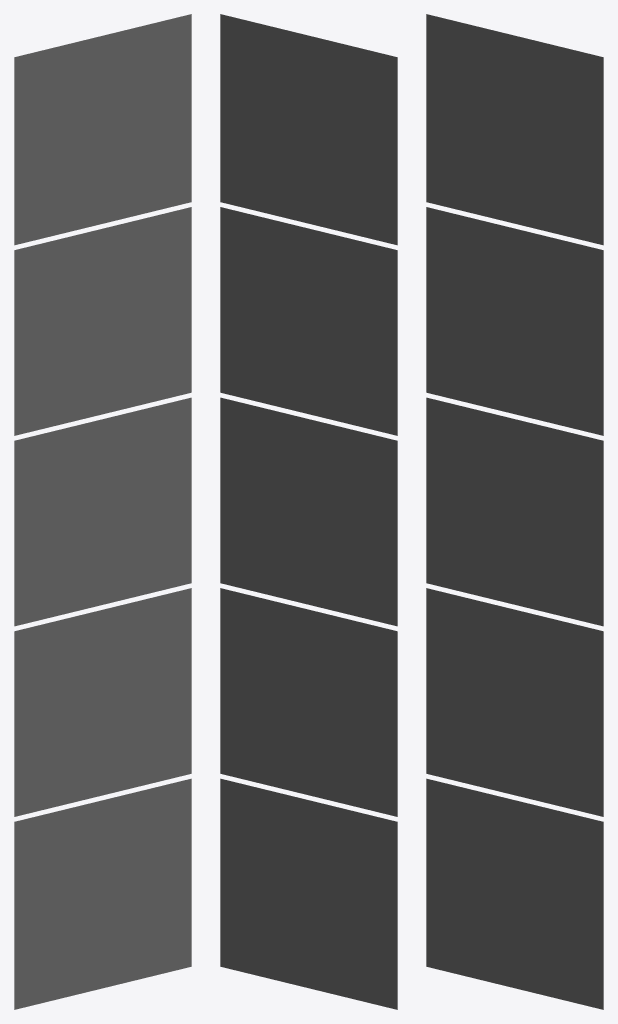
File: picture_066.glb
3 views of the same model, side by side, from view 1: azimuth 30°, elevation 25°; view 2: azimuth 150°, elevation 25°; view 3: azimuth 330°, elevation 25° (orthographic).
Visible parts, largest first — view 1: picture_066; view 2: picture_066; view 3: picture_066.
Part boxes in pixels (x1,y1,x2,y2): picture_066: (14, 14, 191, 1009); picture_066: (220, 14, 397, 1009); picture_066: (426, 14, 603, 1009).
Size of the model in its own units: 0.7798 by 4 by 5.89e-08.
Materials: 1 (1 with a texture image).
